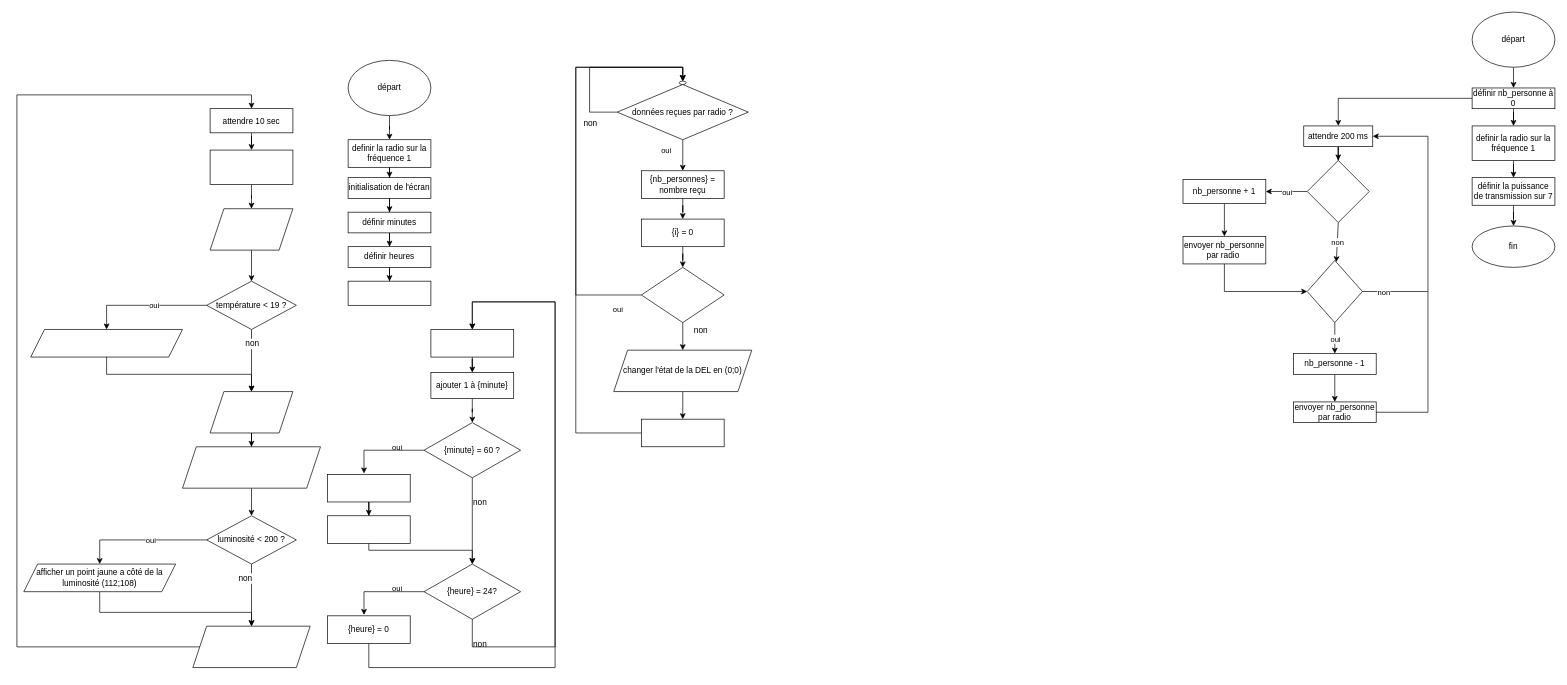
The diagram is 1567 pixels wide and 685 high, and some of its shapes have lost their labels. The centre of each missing label's shape, as x and y in pixels:
afficher "{heure}:{minute}": pixel 251 646
afficher "{nb_personne} personnes" en (63;15): pixel 251 412
afficher "{niveau d'intensité lumineuse} lux" en (63;101): pixel 251 467
afficher "{température} °C" en (10;55): pixel 251 229
afficher un point rouge a côté de la température (45;62): pixel 106 343
ajouter 1 à {heure}: pixel 368 488
attendre 300 ms: pixel 682 432
attendre 50 sec: pixel 472 343
bouton A est pressé?: pixel 1338 191
bouton B est pressé?: pixel 1334 291
definir nb_personne à 0: pixel 389 292
nettoyer l'écran: pixel 251 167
{i} < 2 ?: pixel 682 295
{minute} = 0: pixel 368 529
